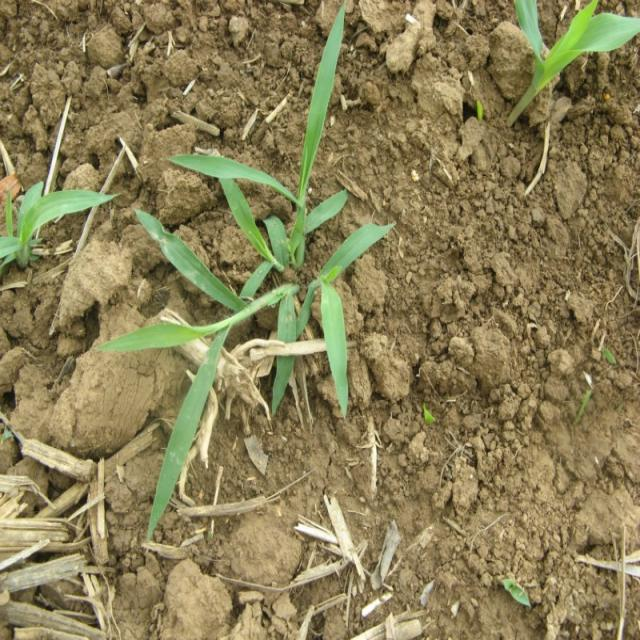bg: (103, 4, 393, 537)
